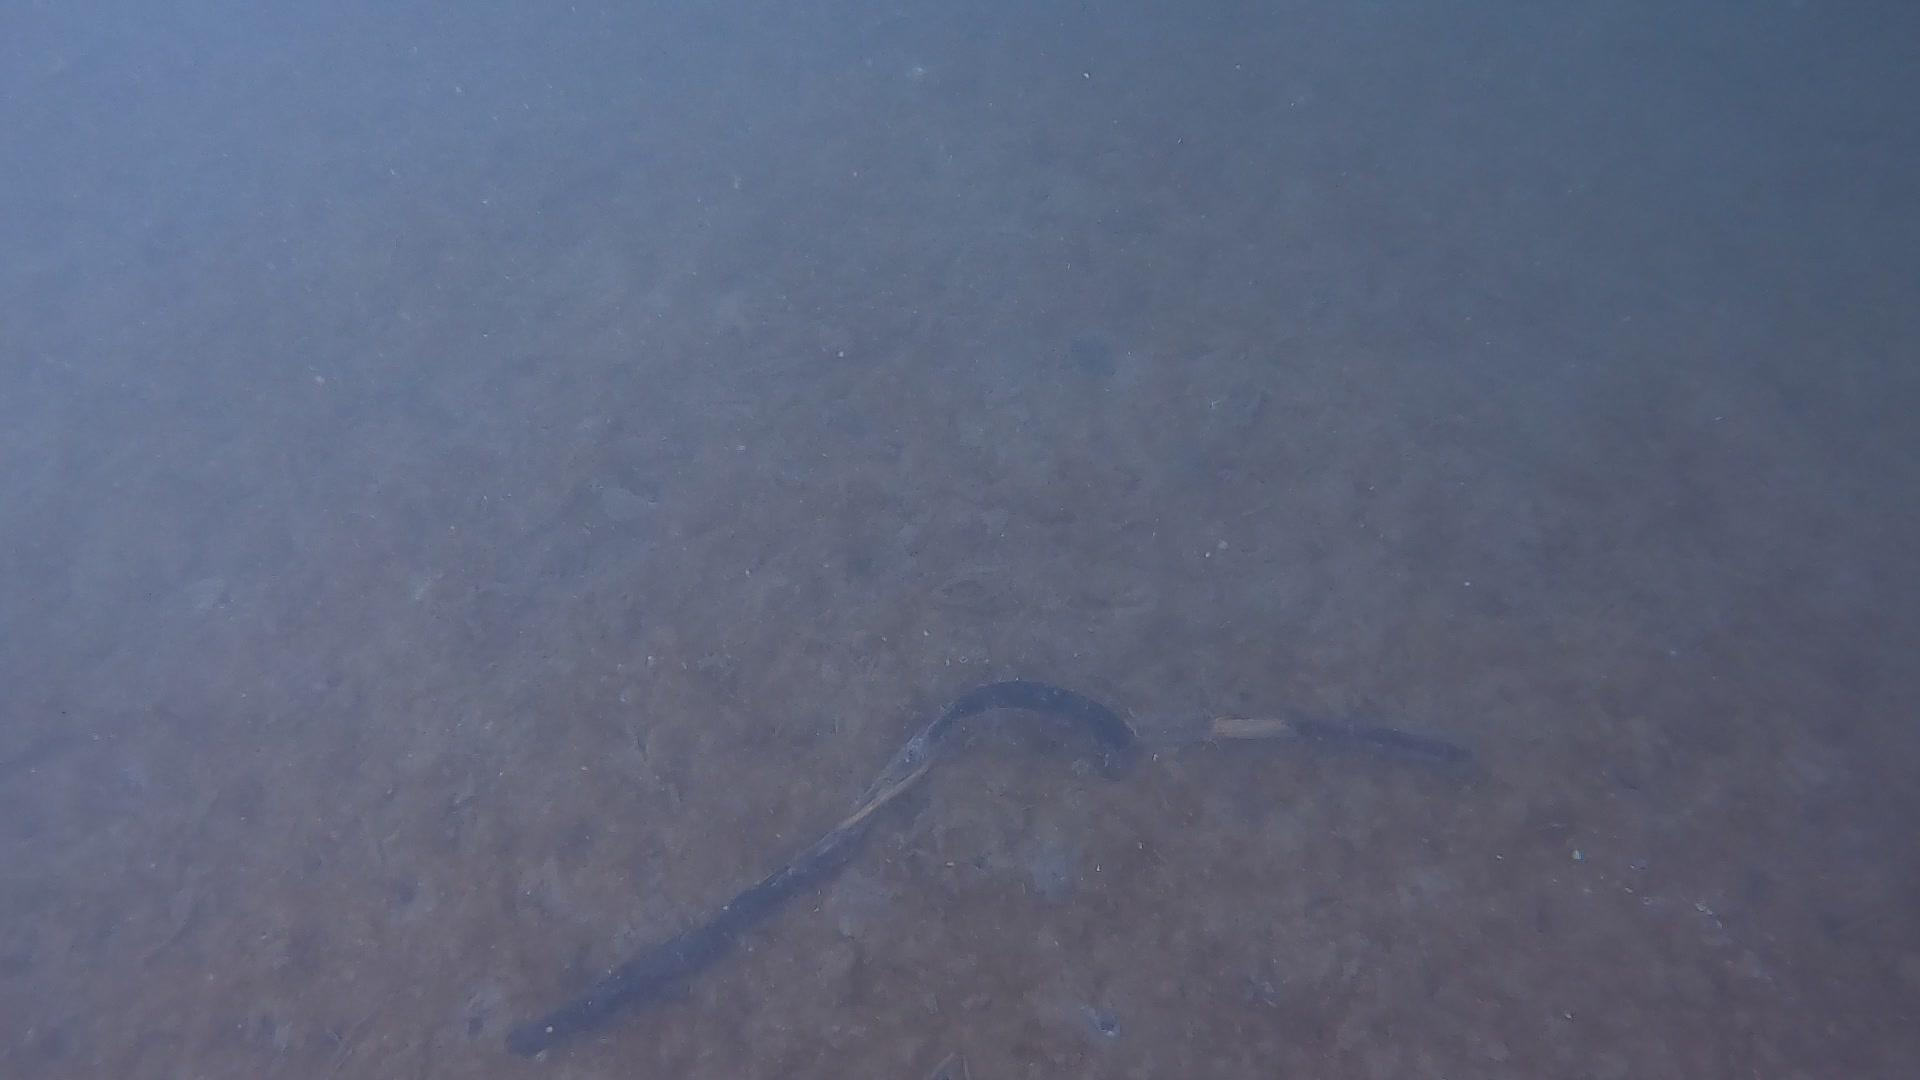wood: (496, 678, 1466, 1063)
